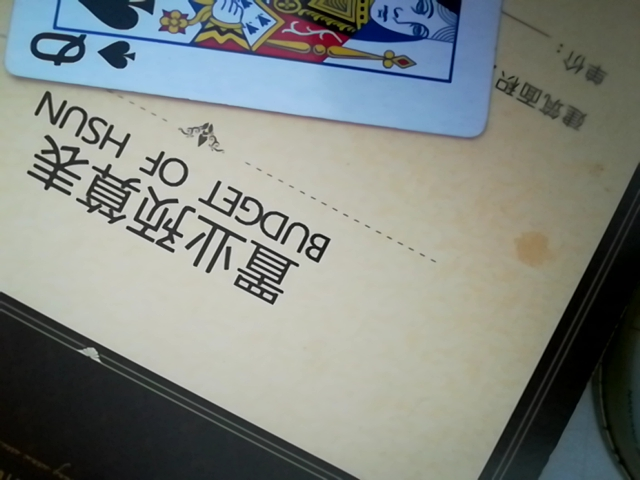ht q: (5, 0, 531, 138)
